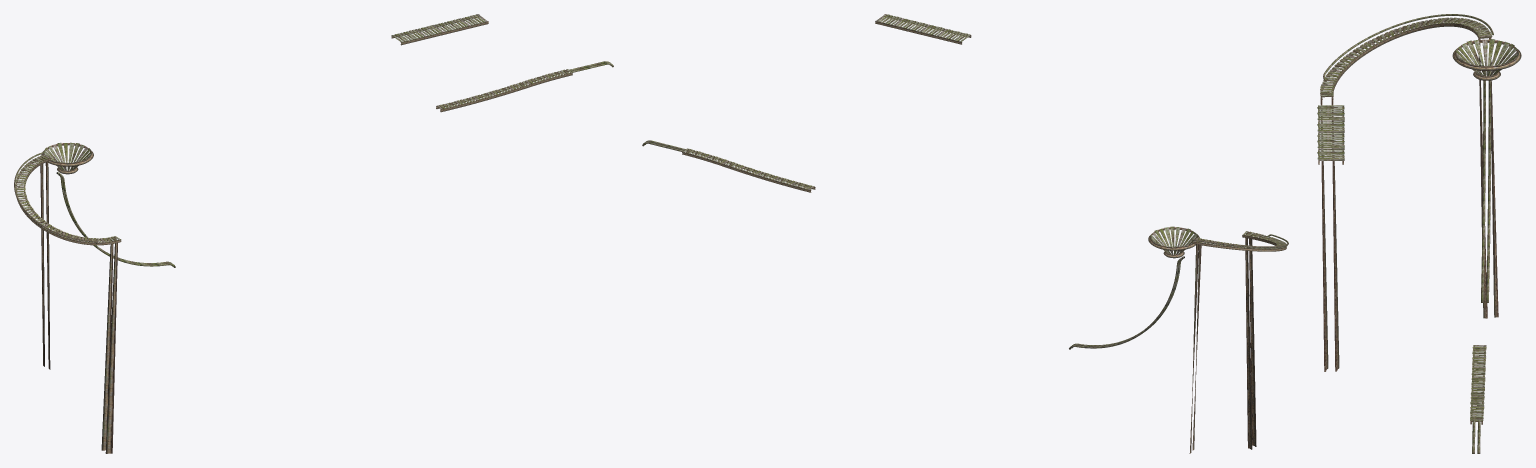
Rendered from boss 5.fbx.
The picture shows the model from 3 angles, left to right: view 1: azimuth 30°, elevation 25°; view 2: azimuth 150°, elevation 25°; view 3: azimuth 270°, elevation 25°; orthographic projection. The views are drawn at different scales.
Parts seen in each view (by area): view 1: ramp.016, ramp.006, ramp.003, RAMP.; view 2: ramp.016, ramp.006, ramp.003, RAMP.; view 3: ramp.016, RAMP., ramp.006, ramp.010, ramp.003, pipe.002, ramp.008.
Part boxes in pixels (<box>): ramp.016: <box>15,154,121,453</box>; ramp.006: <box>391,14,488,45</box>; ramp.003: <box>436,69,572,112</box>; RAMP.: <box>41,142,93,174</box>; ramp.016: <box>1189,231,1287,453</box>; ramp.006: <box>875,14,971,44</box>; ramp.003: <box>682,148,815,192</box>; RAMP.: <box>1148,226,1199,258</box>; ramp.016: <box>1320,17,1498,371</box>; RAMP.: <box>1452,39,1521,80</box>; ramp.006: <box>1317,105,1344,164</box>; ramp.010: <box>1481,71,1491,302</box>; ramp.003: <box>1470,345,1486,424</box>; pipe.002: <box>1323,14,1493,81</box>; ramp.008: <box>1472,420,1480,453</box>.
Bounding box in the file's own units: 7051 × 3742 × 1537.
